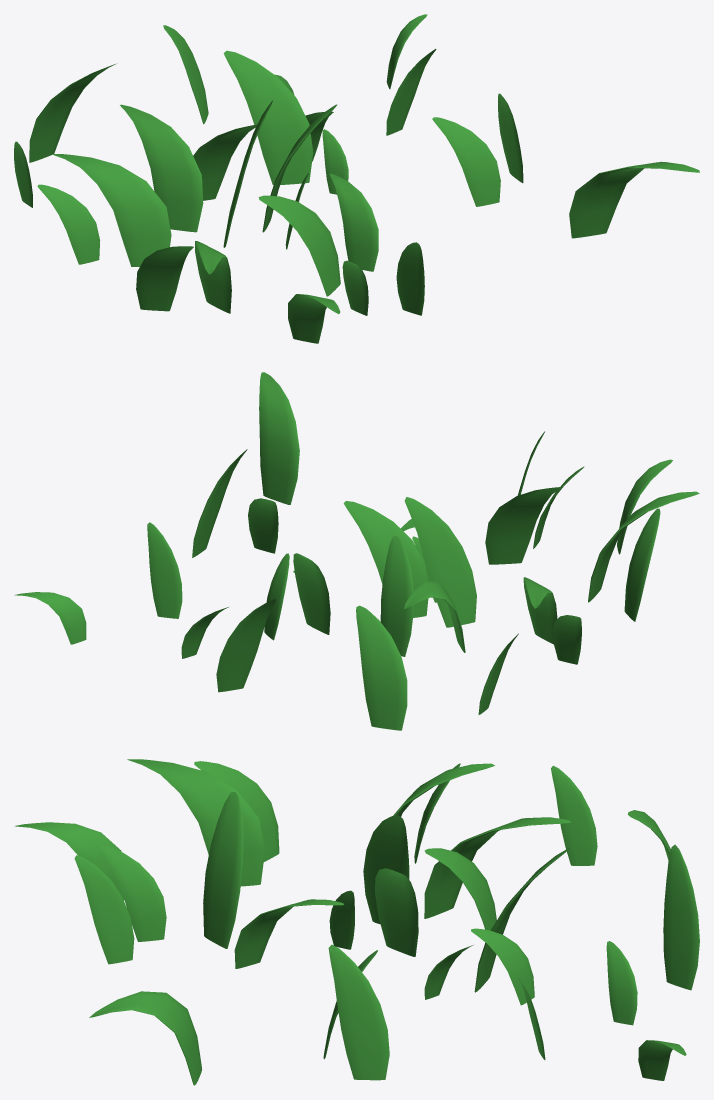
File: grass clump 6.fbx
The picture shows the model from 3 angles, top to bottom: view 1: azimuth 30°, elevation 25°; view 2: azimuth 150°, elevation 25°; view 3: azimuth 270°, elevation 25°; orthographic projection. The views are drawn at different scales.
Visible parts, largest first — view 1: Grass Clump 6; view 2: Grass Clump 6; view 3: Grass Clump 6.
Boxes of the visible parts, x1=… form: Grass Clump 6: x1=14, y1=14, x2=699, y2=343; Grass Clump 6: x1=14, y1=372, x2=699, y2=730; Grass Clump 6: x1=14, y1=759, x2=699, y2=1085.
Bounding box in the file's own units: 219 × 52.43 × 234.
